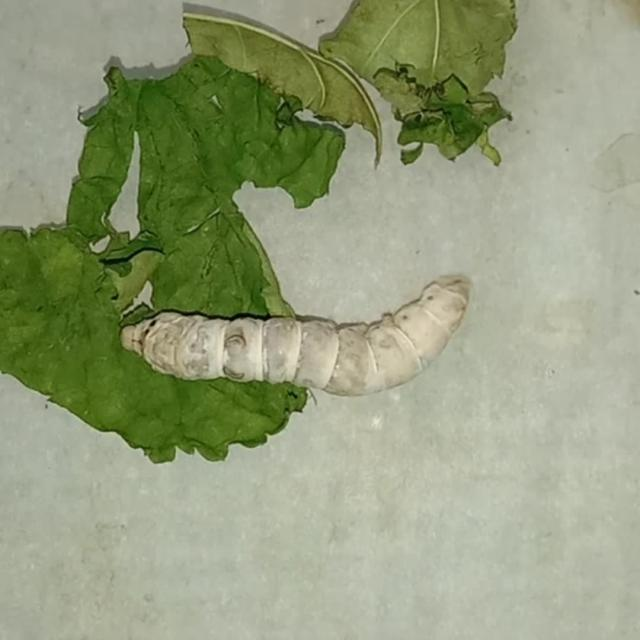Grasserie: (116, 266, 491, 412)
